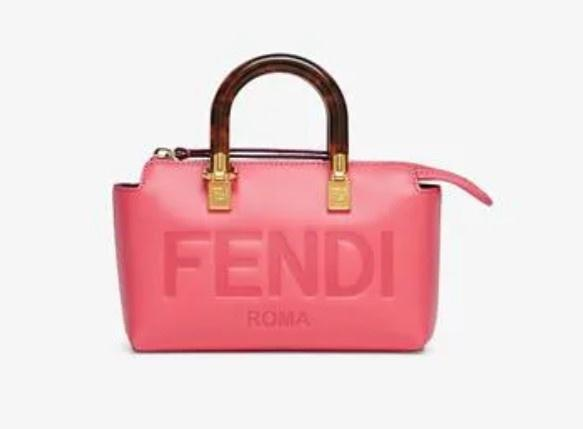FENDI: (163, 228, 394, 298)
